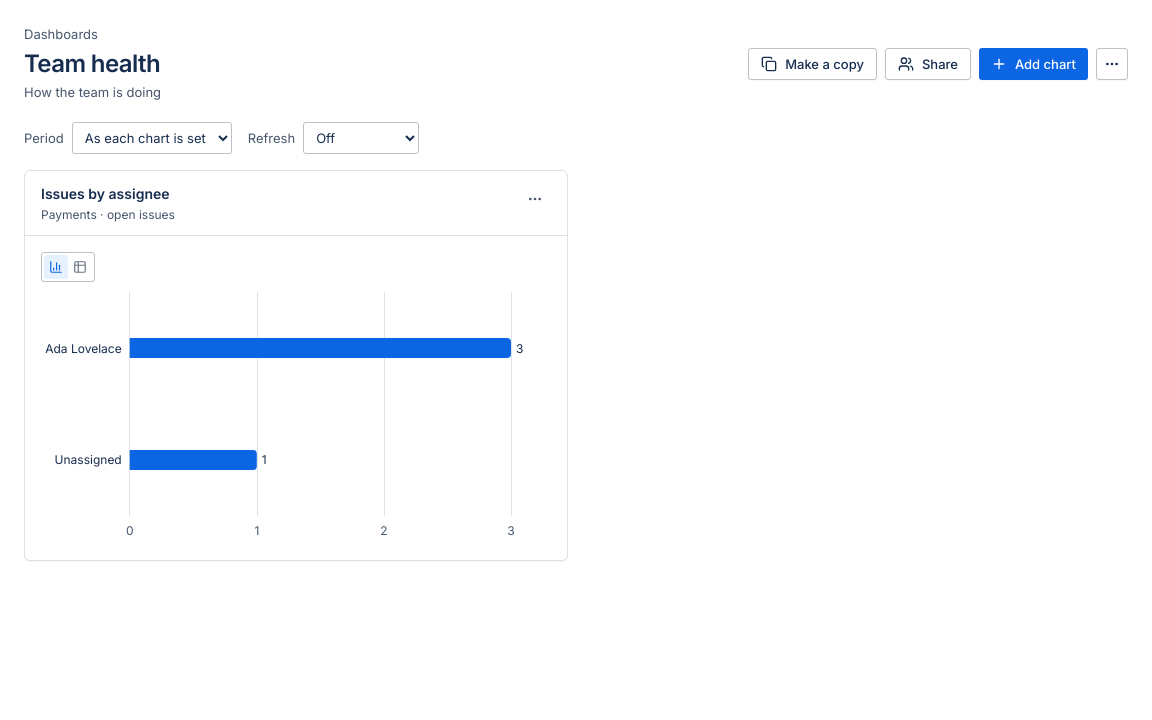
dashboards › shows each chart with its table, and lets the owner share it
Expected: the heading "Issues by assignee" is shown, [41,183,175,205]
Expected: the text "Payments · open issues" is shown, [41,207,175,223]
Click the button named "Table".
click(80, 267)  # box [68,255,92,279]
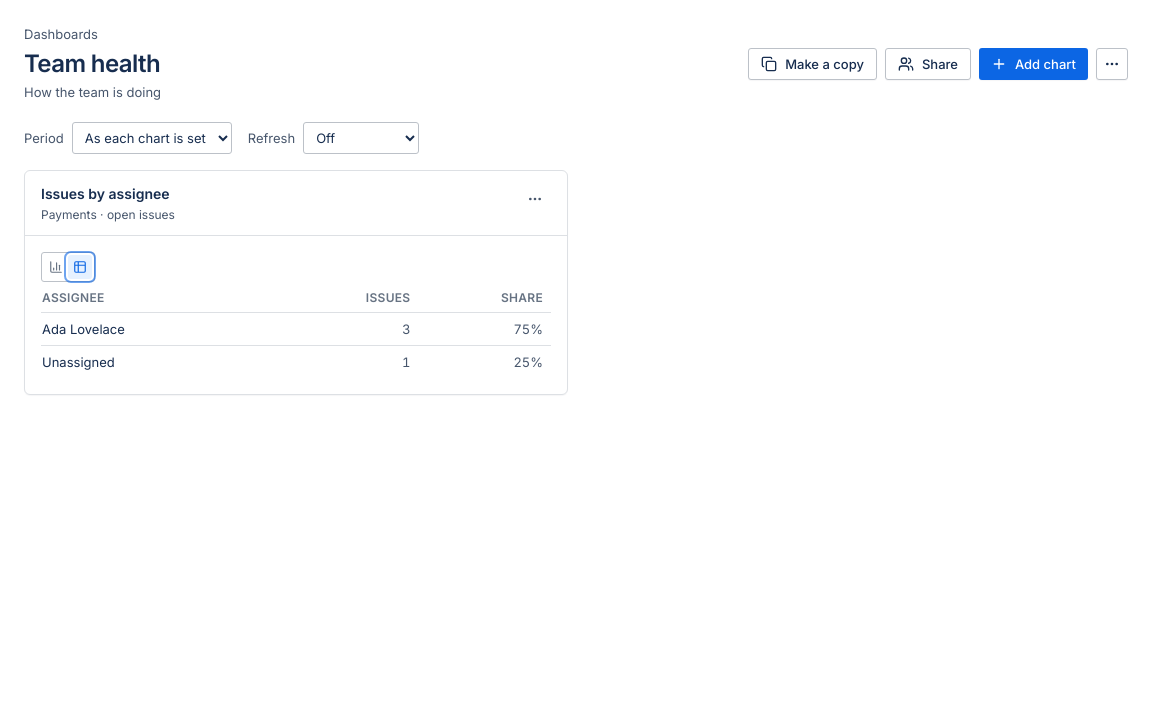
Expected: the cell "Ada Lovelace" is shown, [41,313,279,346]
Expected: the cell "Unassigned" is shown, [41,346,279,378]
Click the button "Share".
click(928, 64)  # box [885,48,971,80]
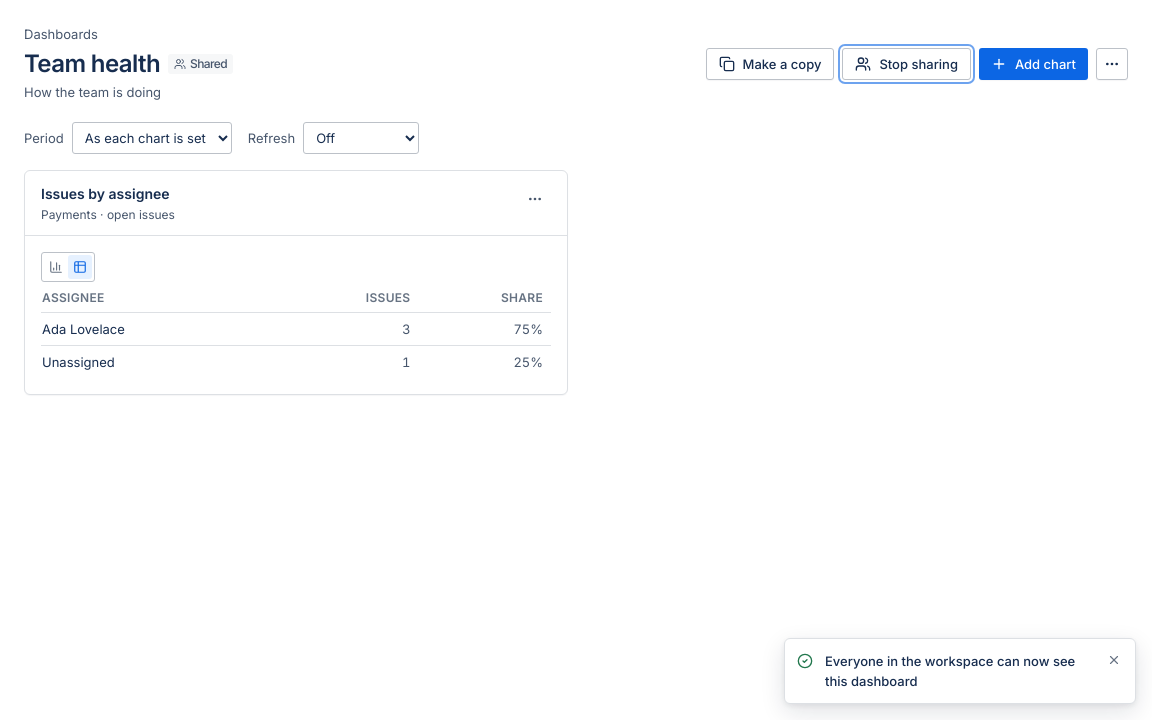
Expected: the button "Stop sharing" is shown, [842,48,971,80]
